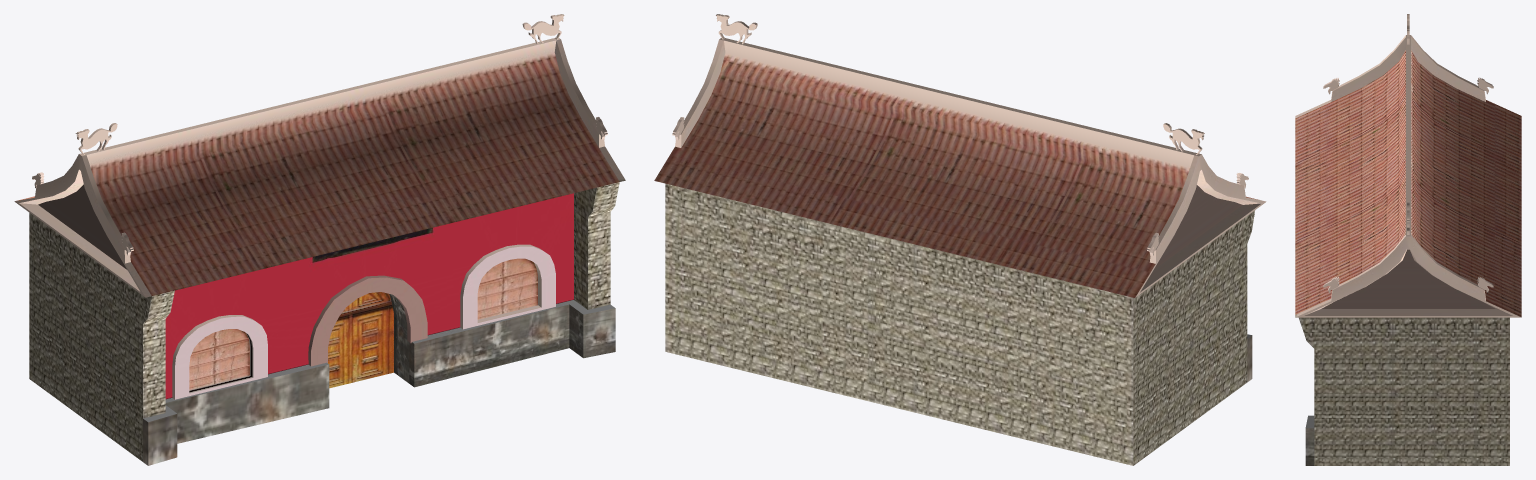
File: Temple2.fbx
3 renders of one model, left to right at view 1: azimuth 30°, elevation 25°; view 2: azimuth 150°, elevation 25°; view 3: azimuth 270°, elevation 25°, orthographic. The views are drawn at different scales.
Parts seen in each view (by area): view 1: 10062_china_buddhist_temple_2009; view 2: 10062_china_buddhist_temple_2009; view 3: 10062_china_buddhist_temple_2009.
Boxes of the visible parts, x1=… form: 10062_china_buddhist_temple_2009: x1=14, y1=14, x2=625, y2=465; 10062_china_buddhist_temple_2009: x1=654, y1=14, x2=1266, y2=465; 10062_china_buddhist_temple_2009: x1=1295, y1=14, x2=1521, y2=465.
Size of the model in its own units: 947 by 544 by 443.
1 material, 1 textured.
